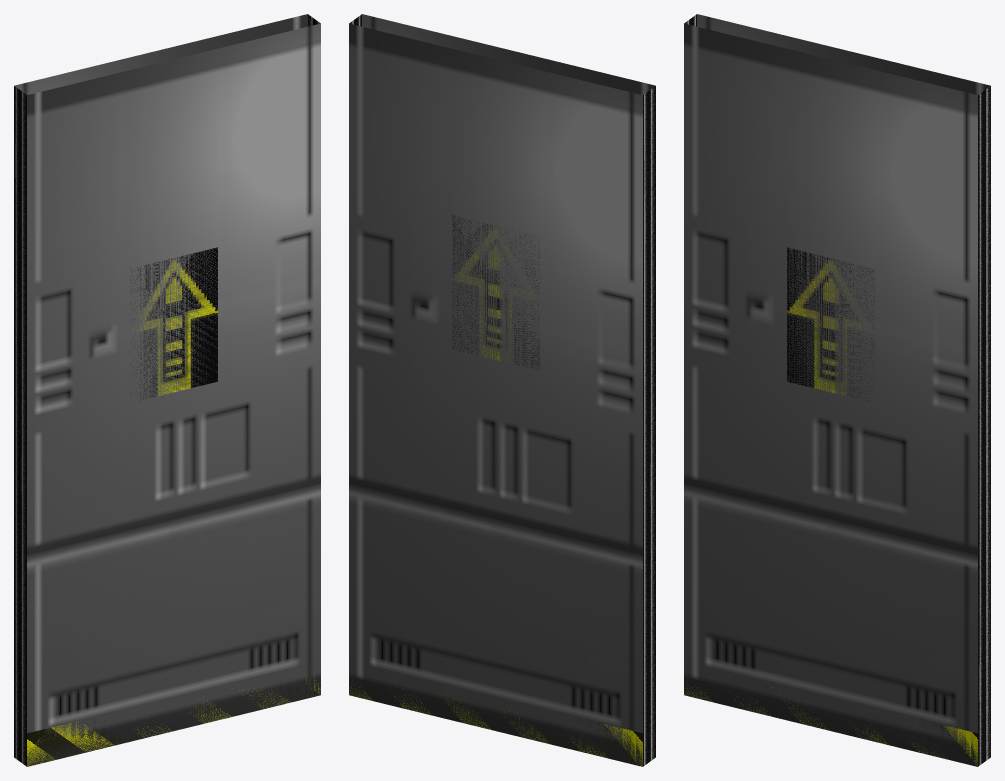
Rendered from primary_064.glb.
3 views of the same model, side by side, from view 1: azimuth 30°, elevation 25°; view 2: azimuth 150°, elevation 25°; view 3: azimuth 330°, elevation 25° (orthographic).
Parts seen in each view (by area): view 1: Object; view 2: Object; view 3: Object.
Boxes of the visible parts, <box> form: Object: <box>14,14,320,766</box>; Object: <box>349,14,655,766</box>; Object: <box>684,14,990,766</box>.
Size of the model in its own units: 1.36 by 2.98 by 0.1049.
Materials: 7 (7 with a texture image).
